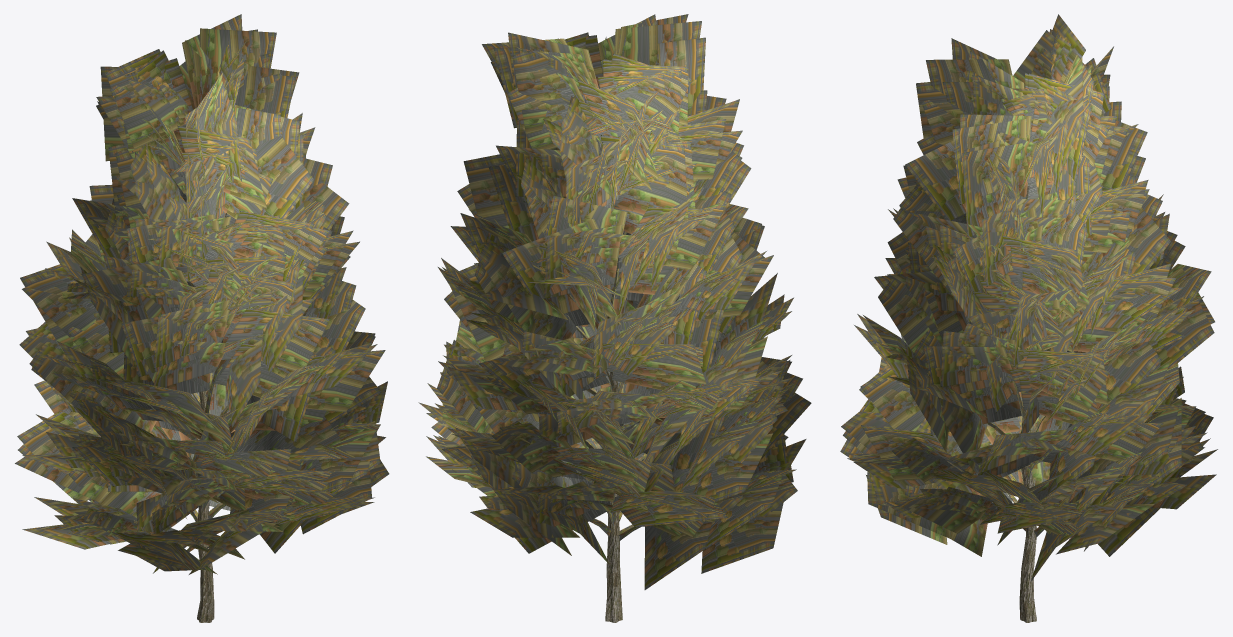
Rendered from Maple_2.FBX.
3 renders of one model, left to right at view 1: azimuth 30°, elevation 25°; view 2: azimuth 150°, elevation 25°; view 3: azimuth 270°, elevation 25°, orthographic. The views are drawn at different scales.
Parts seen in each view (by area): view 1: Tree_1; view 2: Tree_1; view 3: Tree_1.
Boxes of the visible parts, box(x1,y1,x2,y2) form: Tree_1: box(15, 14, 389, 622); Tree_1: box(418, 14, 811, 622); Tree_1: box(840, 14, 1217, 622).
Size of the model in its own units: 420 by 676 by 405.
